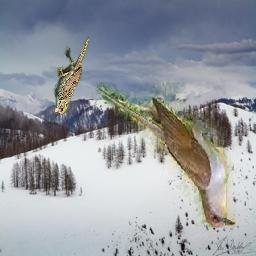Cuckoo: (90, 82, 236, 228)
Sparrow: (53, 36, 90, 115)
